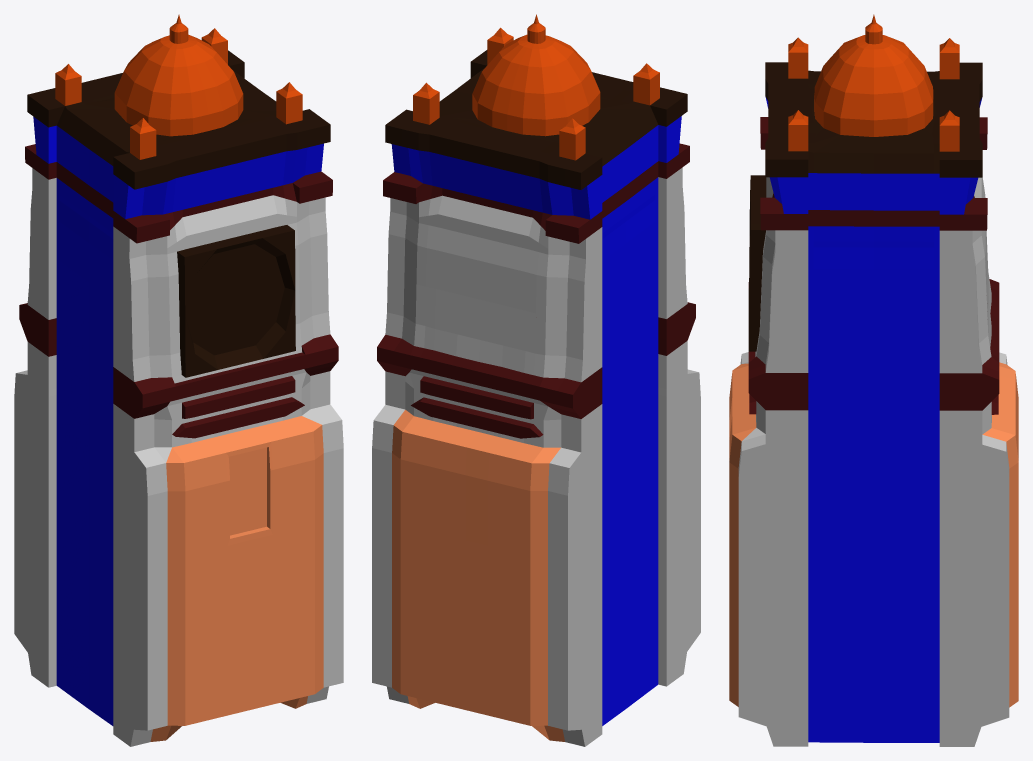
The model's file is clocktower.fbx.
3 views of the same model, side by side, from view 1: azimuth 30°, elevation 25°; view 2: azimuth 150°, elevation 25°; view 3: azimuth 270°, elevation 25° (orthographic).
Parts seen in each view (by area): view 1: Plane (×6); view 2: Plane (×6); view 3: Plane (×6).
Boxes of the visible parts, box(x1,y1,x2,y2) form: Plane (×6): box(14, 14, 343, 746); Plane (×6): box(372, 14, 700, 746); Plane (×6): box(729, 14, 1018, 746).
Size of the model in its own units: 185 by 607 by 233.
